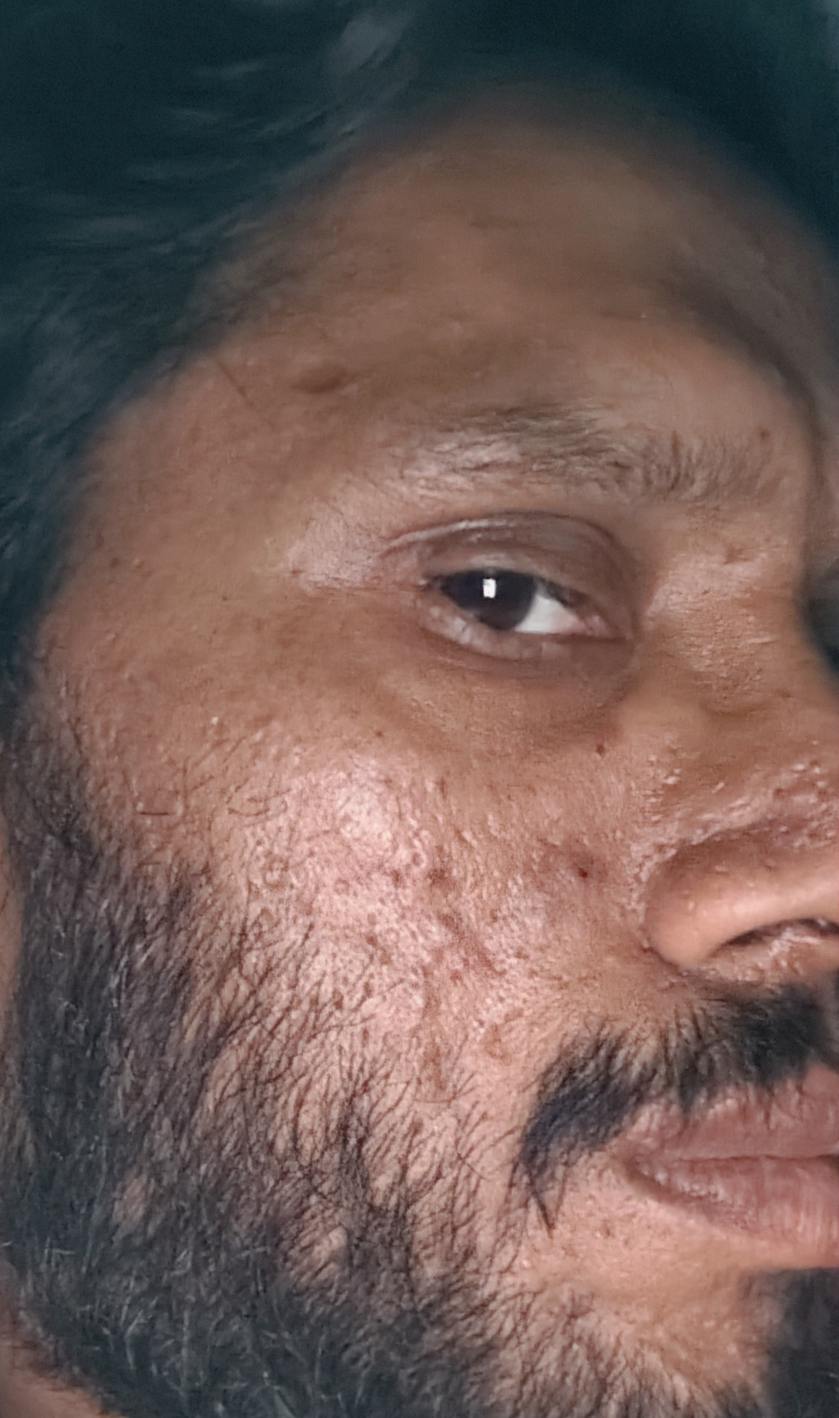closed_comedone: (391, 970, 450, 1038)
papule: (543, 818, 616, 912)
